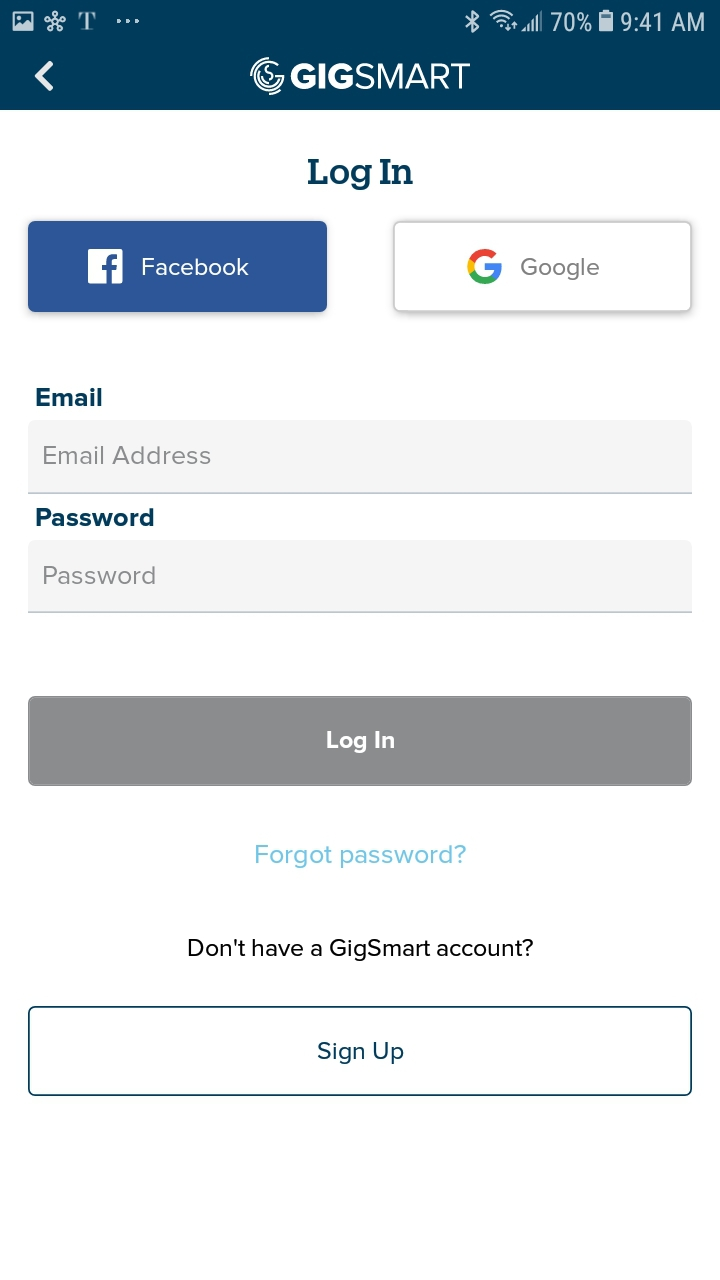EditText: (29, 421, 692, 495), (29, 541, 692, 614)
Icon: (36, 62, 54, 92)
Image: (251, 58, 285, 96)
Text: (188, 938, 534, 962), (256, 844, 467, 869), (291, 64, 471, 91), (308, 159, 414, 191), (45, 446, 212, 466), (45, 565, 157, 585), (37, 509, 155, 527), (37, 389, 103, 407)
TextButton: (29, 1006, 692, 1096), (29, 697, 692, 787), (393, 222, 692, 313), (29, 222, 328, 313)
UpperTaskBar: (1, 1, 720, 34)
